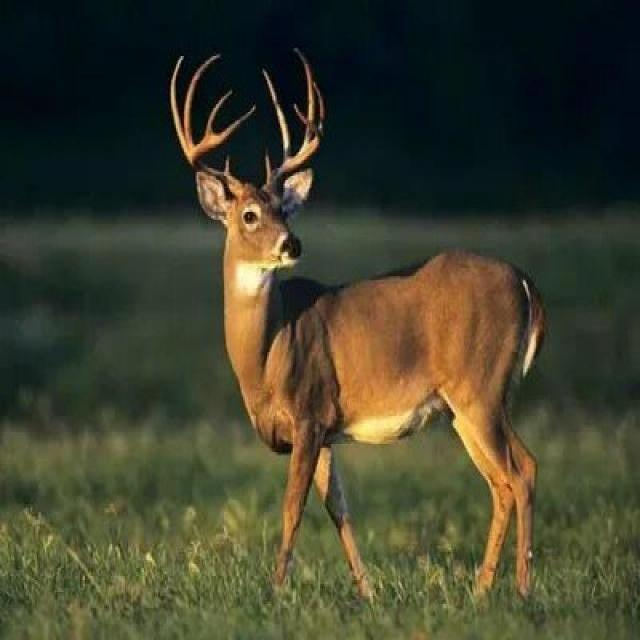deer: (138, 16, 585, 604)
